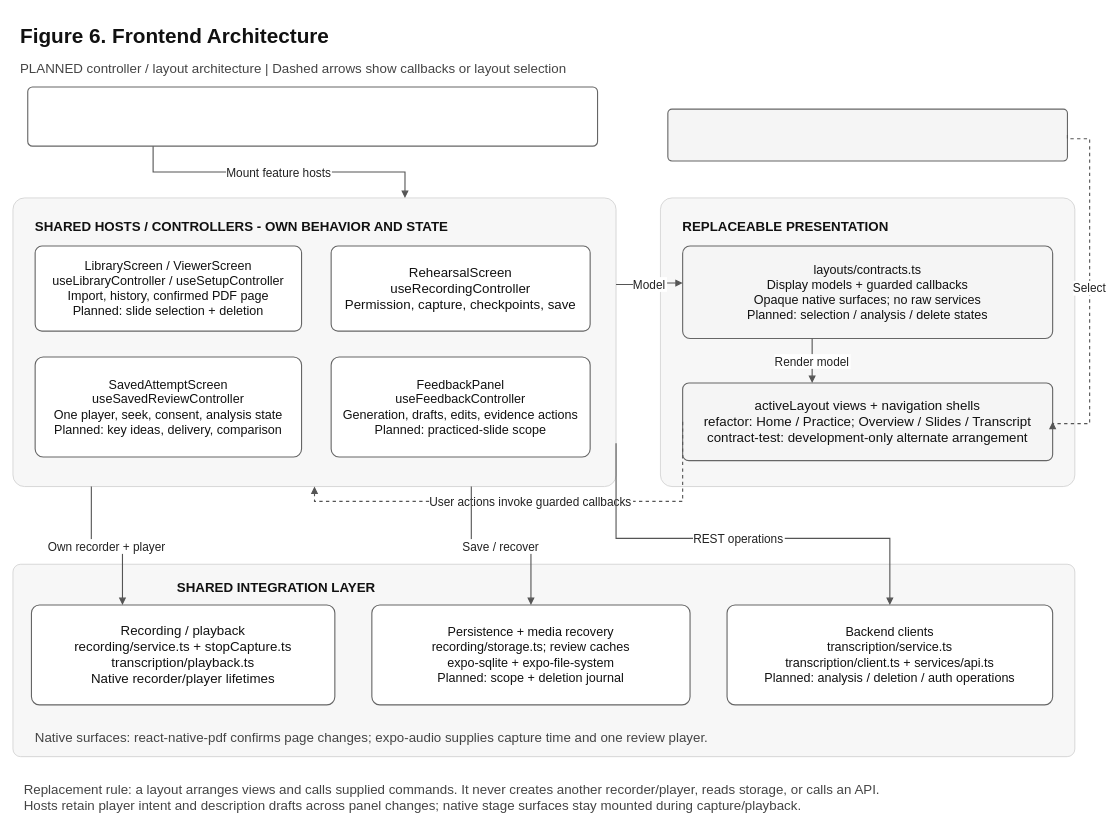
Image size: 1120x832. Some labels were removed from this diagram. The shapes that lost their labels are listed below. From the top down, each one's centre as x and y in pixels, then its label:
At (x=312, y=116): "Expo Router src/app: route parameters + screen mounting".
At (x=867, y=134): "registry.ts + selection.ts EXPO_PUBLIC_UI_LAYOUT selects once at launch".
